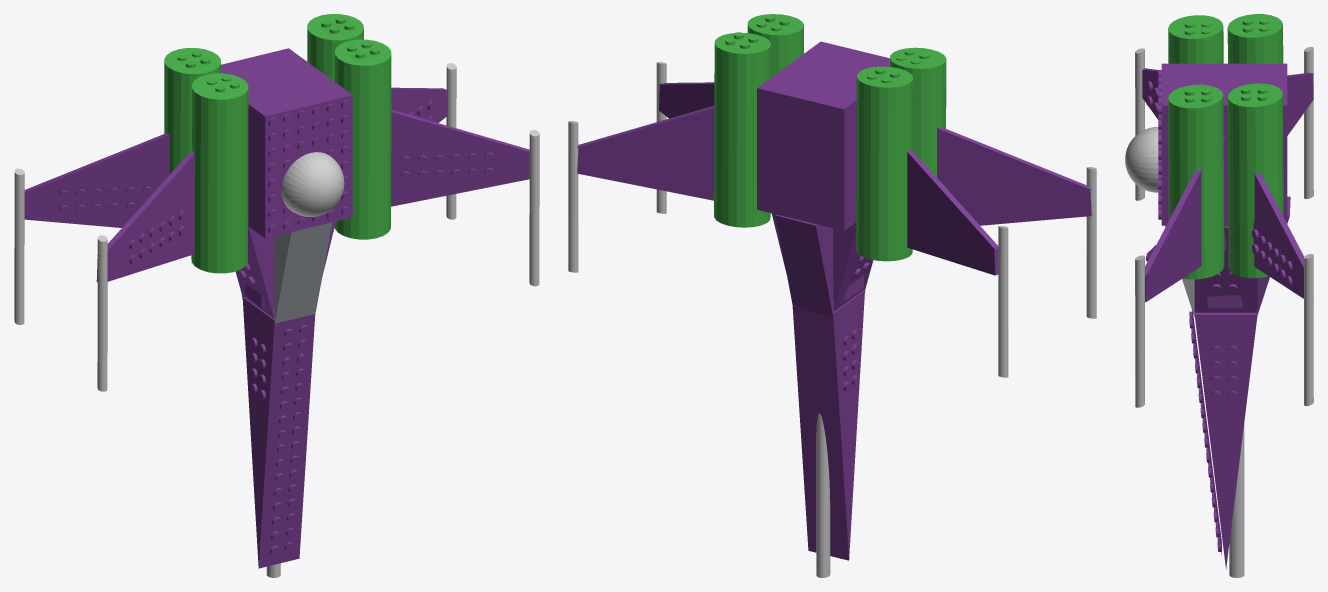
Rendered from x-wing-fighter.obj.
3 views of the same model, side by side, from view 1: azimuth 30°, elevation 25°; view 2: azimuth 150°, elevation 25°; view 3: azimuth 270°, elevation 25° (orthographic).
Parts seen in each view (by area): view 1: group_0_8273816, group_0_4634441, group_0_16089887, group_0_10988977; view 2: group_0_8273816, group_0_4634441, group_0_16089887; view 3: group_0_8273816, group_0_4634441, group_0_16089887, group_0_10988977.
Part boxes in pixels (x1,y1,x2,y2): group_0_8273816: (24, 48, 529, 568); group_0_4634441: (164, 14, 391, 273); group_0_16089887: (14, 63, 539, 577); group_0_10988977: (274, 222, 332, 323); group_0_8273816: (577, 41, 1091, 560); group_0_4634441: (714, 14, 946, 261); group_0_16089887: (568, 62, 1096, 577); group_0_8273816: (1142, 63, 1313, 569); group_0_4634441: (1168, 14, 1283, 279); group_0_16089887: (1125, 47, 1313, 577); group_0_10988977: (1165, 225, 1194, 316).
Size of the model in its own units: 152 by 172 by 57.
